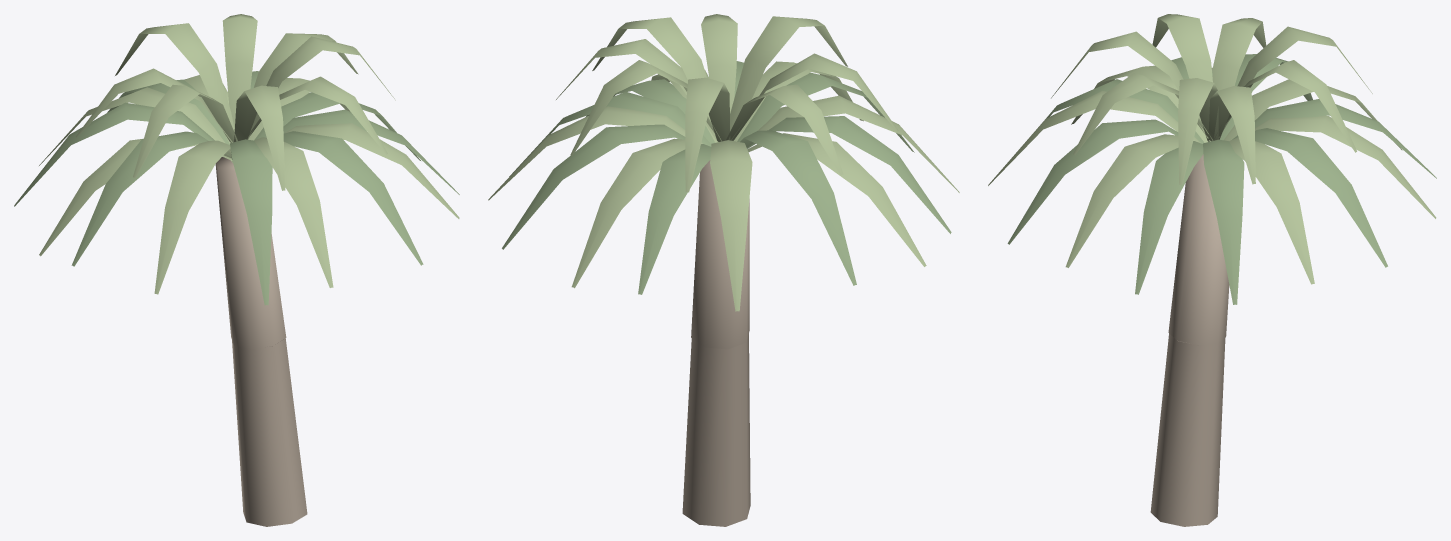
The model's file is small_palm_4.glb.
3 views of the same model, side by side, from view 1: azimuth 30°, elevation 25°; view 2: azimuth 150°, elevation 25°; view 3: azimuth 270°, elevation 25° (orthographic). The views are drawn at different scales.
Visible parts, largest first — view 1: small_palm_4.glb; view 2: small_palm_4.glb; view 3: small_palm_4.glb.
Part boxes in pixels (left/top/right/bottom): small_palm_4.glb: left=14, top=14, right=459, bottom=526; small_palm_4.glb: left=488, top=14, right=959, bottom=526; small_palm_4.glb: left=988, top=14, right=1436, bottom=526.
Size of the model in its own units: 2.75 by 3.13 by 2.74.
